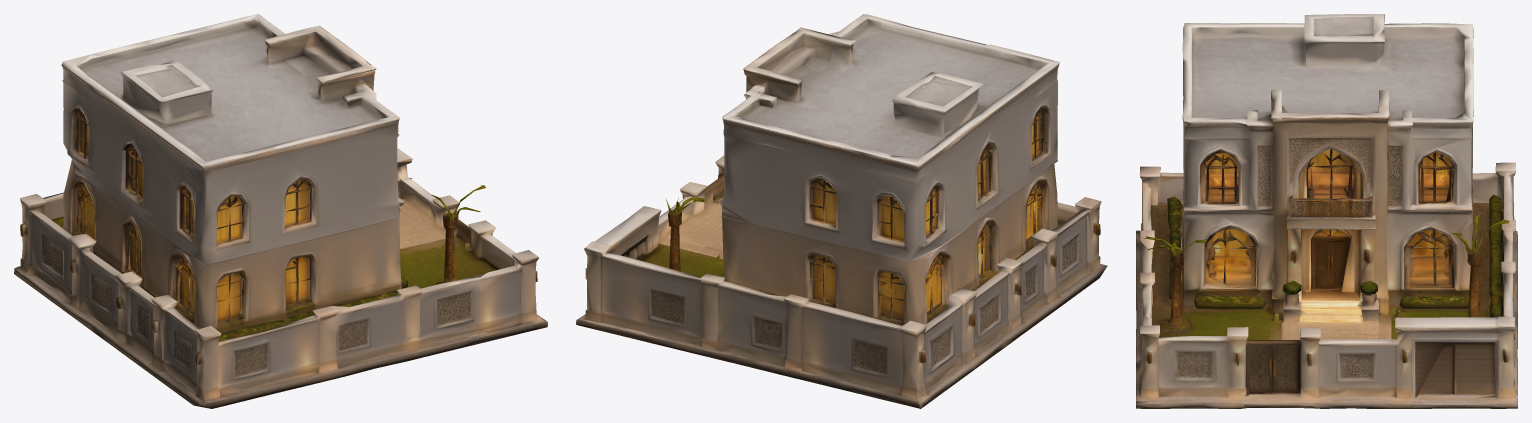
Rendered from villa_white.glb.
3 renders of one model, left to right at view 1: azimuth 30°, elevation 25°; view 2: azimuth 150°, elevation 25°; view 3: azimuth 270°, elevation 25°, orthographic. The views are drawn at different scales.
Visible parts, largest first — view 1: tripo_node_48859b73-e007-487c-94a1-b286bcfed510; view 2: tripo_node_48859b73-e007-487c-94a1-b286bcfed510; view 3: tripo_node_48859b73-e007-487c-94a1-b286bcfed510.
Boxes of the visible parts, box(x1,y1,x2,y2) form: tripo_node_48859b73-e007-487c-94a1-b286bcfed510: box(14, 14, 547, 408); tripo_node_48859b73-e007-487c-94a1-b286bcfed510: box(576, 14, 1107, 408); tripo_node_48859b73-e007-487c-94a1-b286bcfed510: box(1136, 14, 1517, 408).
Size of the model in its own units: 1 by 0.6632 by 0.9392.
1 material, 1 textured.
